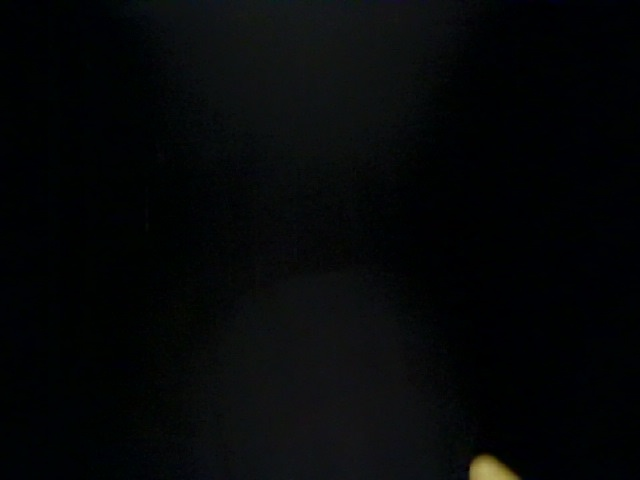YHLJ: (156, 227, 443, 336)
